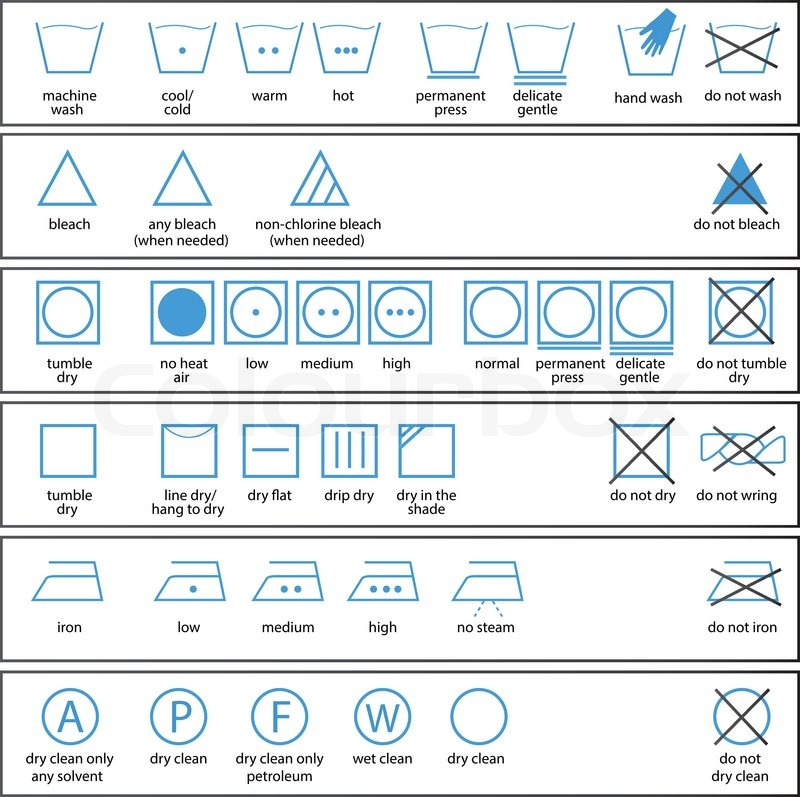do_not_bleach: (698, 145, 784, 220)
do_not_dry_clean: (709, 681, 778, 752)
do_not_iron: (700, 553, 790, 612)
do_not_wash: (698, 16, 788, 79)
